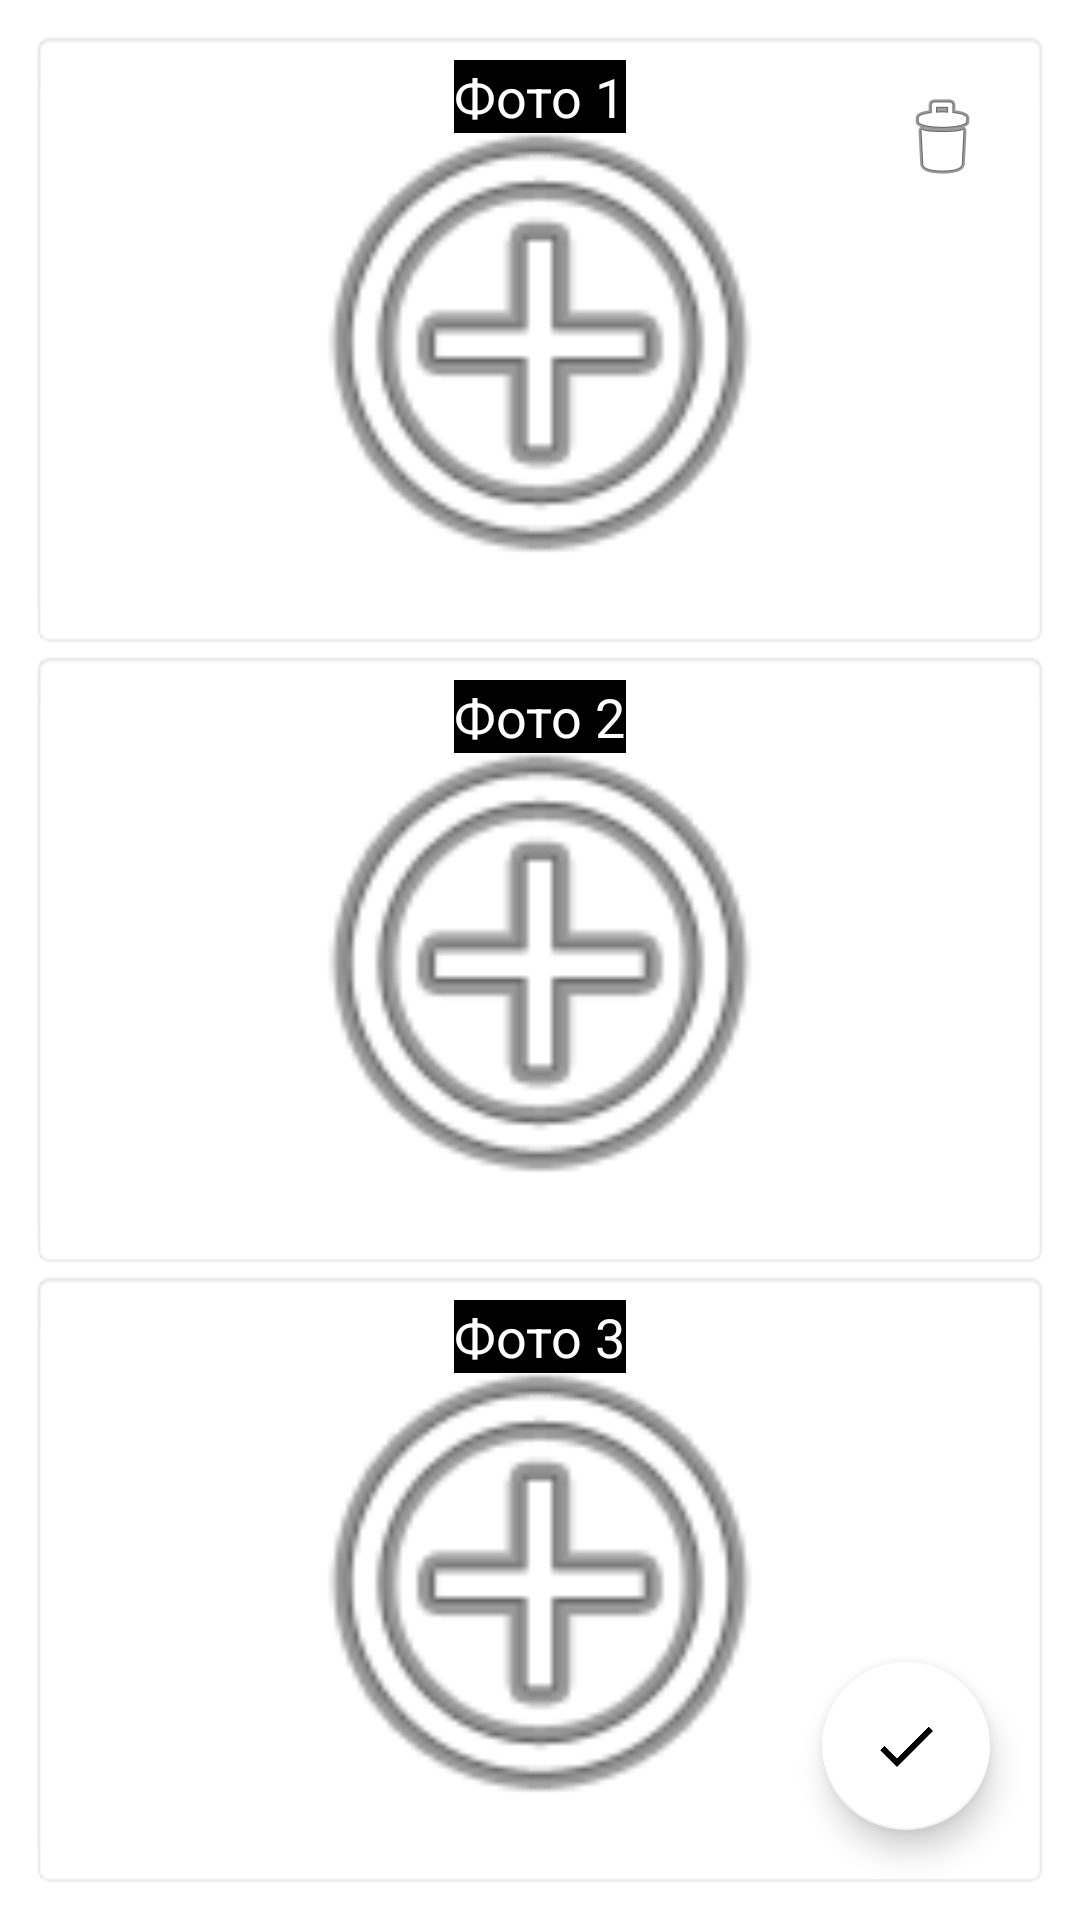

Locate icon controls on the screen. Image size 1080 x 1920, boxes as (x1, y1, x2, y2).
delete: (915, 99, 970, 174)
